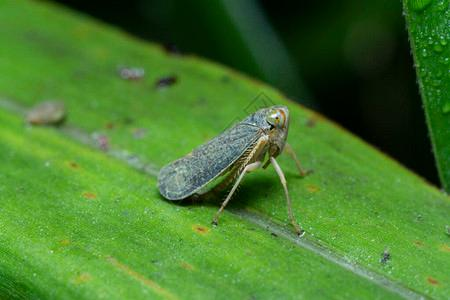Cicadellidae: (157, 105, 313, 234)
